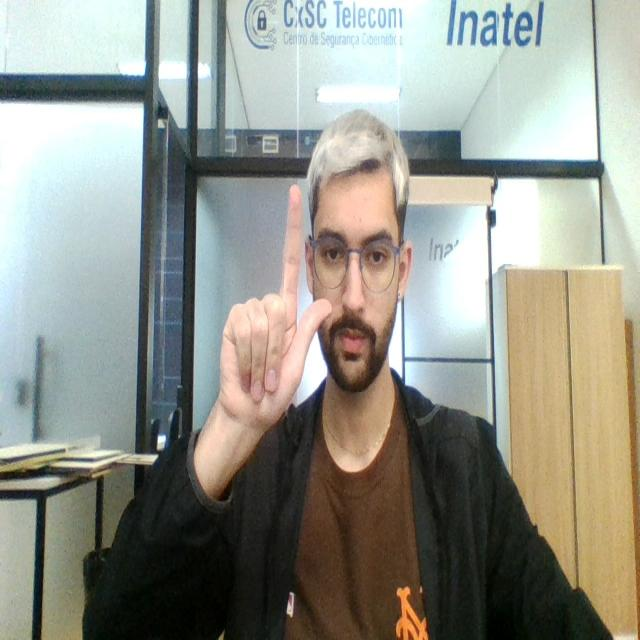G: (215, 180, 335, 444)
